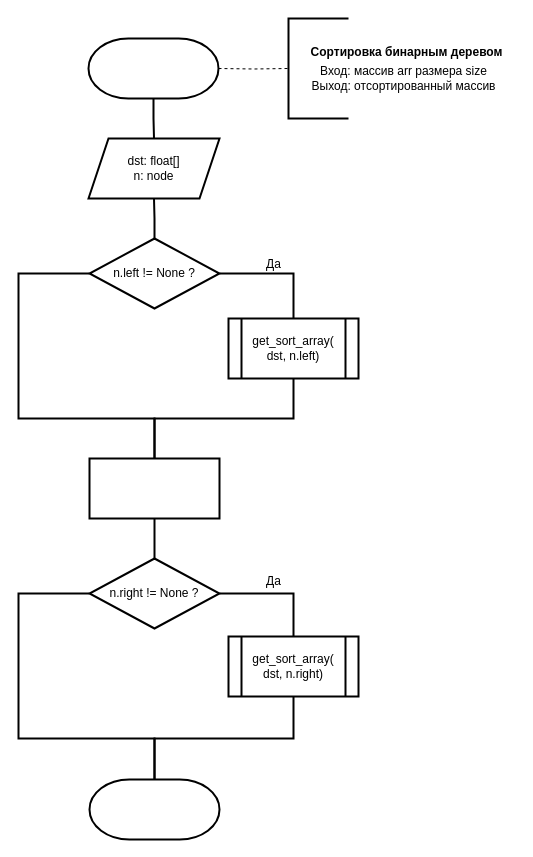
This 533x857 diagram has some shape labels left out. Here are the shapes that lost their labels. From the top down, the box of each, then its label:
(87, 37, 219, 99): Начало
(88, 457, 220, 519): dst.append(n.value)
(88, 778, 220, 840): Конец
